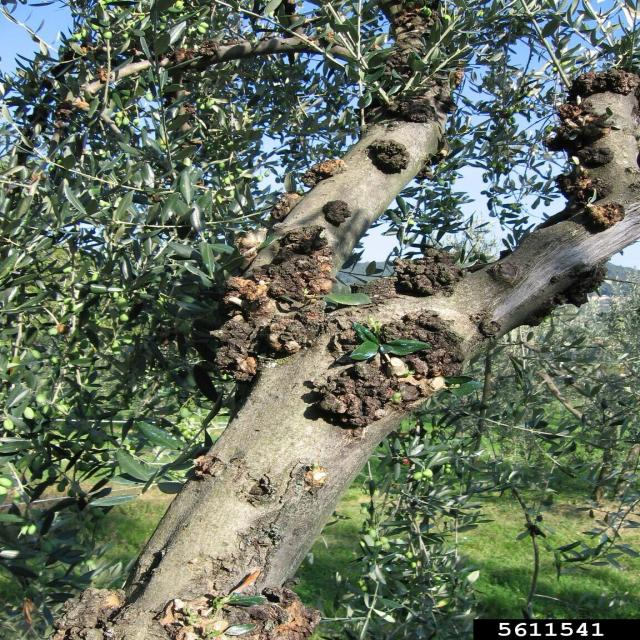Tuberculosis: (314, 362, 419, 427), (211, 278, 274, 381), (252, 226, 335, 302), (380, 312, 463, 377), (255, 577, 321, 640), (53, 588, 124, 640), (390, 248, 465, 297), (266, 299, 325, 356), (545, 103, 609, 146), (554, 261, 605, 307), (556, 165, 611, 204), (571, 69, 639, 100), (162, 40, 219, 66), (381, 98, 441, 122), (368, 140, 409, 175), (301, 158, 346, 188), (584, 202, 624, 232), (271, 193, 301, 222), (322, 200, 351, 227), (576, 147, 613, 168)
